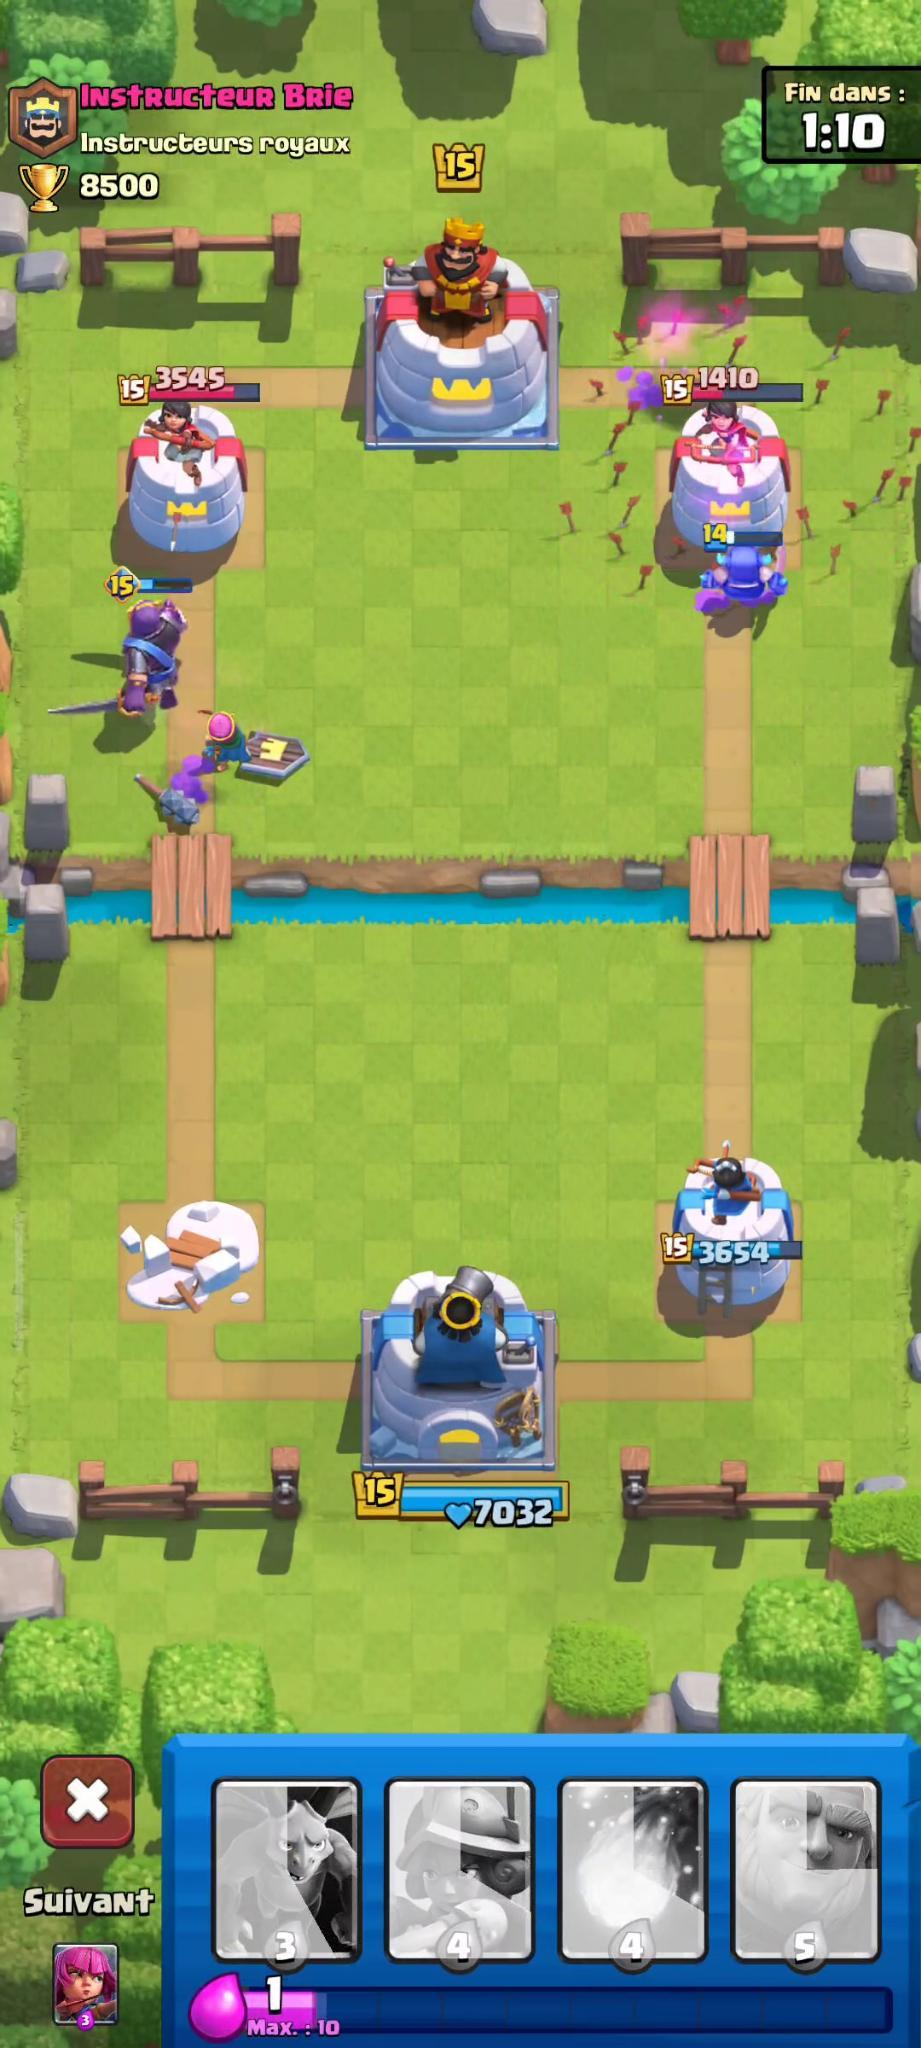enemy_arrows: (540, 279, 920, 607)
player_archers: (197, 707, 252, 769)
player_evo_knight: (53, 567, 202, 733)
player_mini_pekka: (688, 522, 797, 620)
